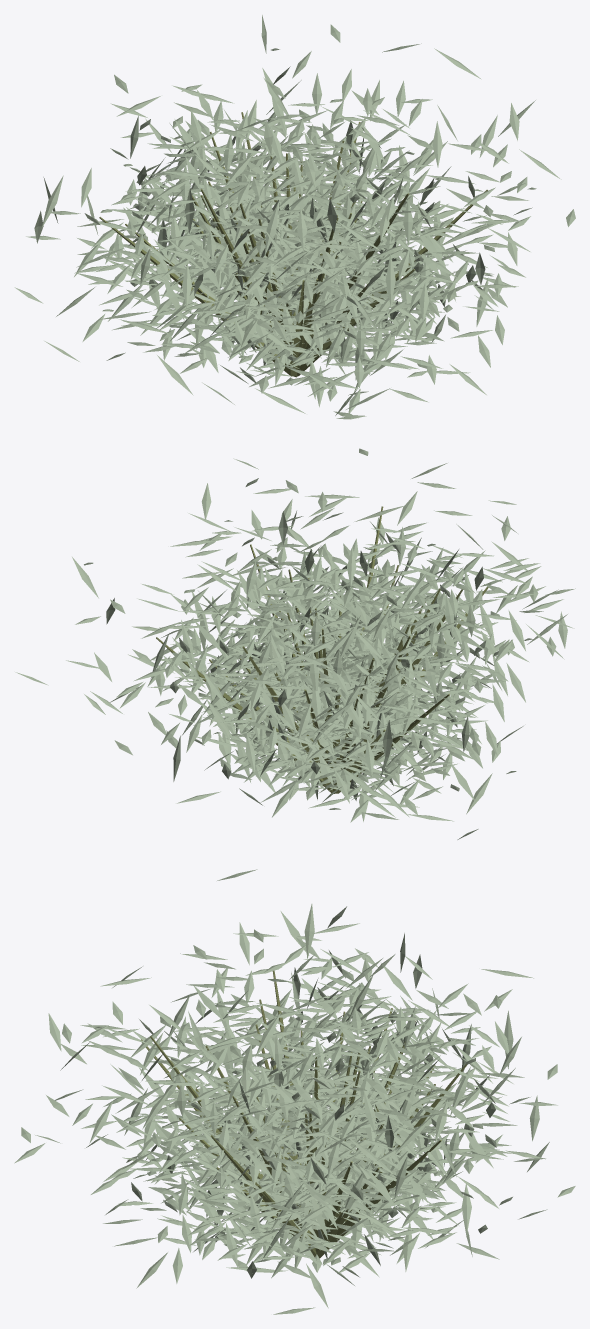
The model's file is silver-shrub.glb.
3 renders of one model, top to bottom at view 1: azimuth 30°, elevation 25°; view 2: azimuth 150°, elevation 25°; view 3: azimuth 270°, elevation 25°, orthographic. The views are drawn at different scales.
Visible parts, largest first — view 1: silver-shrub; view 2: silver-shrub; view 3: silver-shrub.
Boxes of the visible parts, x1,y1,x2,y2 form: silver-shrub: (14, 15, 575, 419); silver-shrub: (15, 448, 575, 839); silver-shrub: (14, 869, 575, 1314).
Size of the model in its own units: 1.26 by 0.775 by 1.19.
